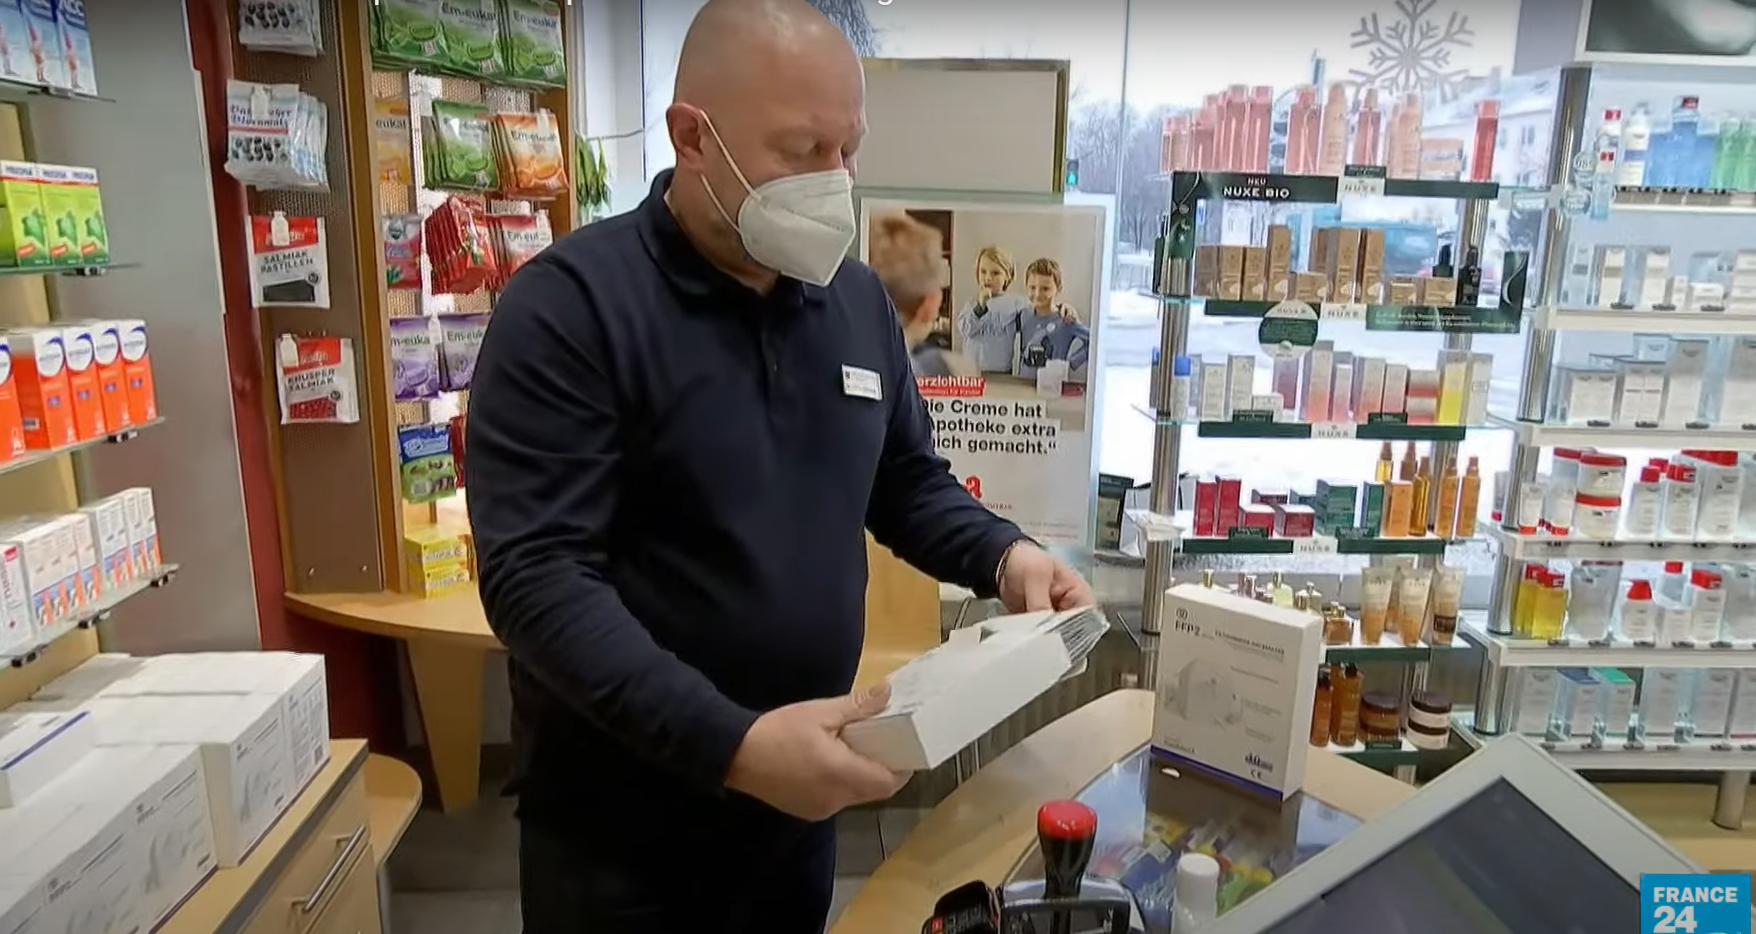with_mask: (702, 77, 854, 285)
